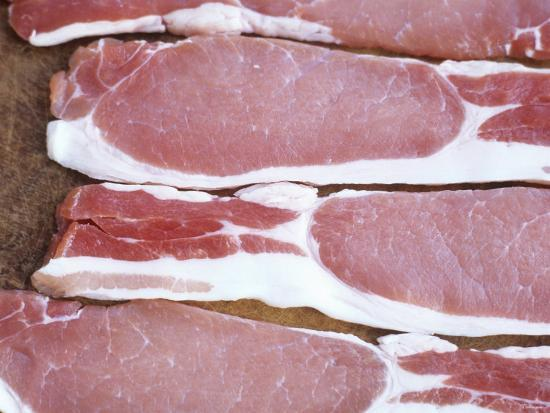bacon: (39, 182, 550, 340), (58, 31, 546, 195)
